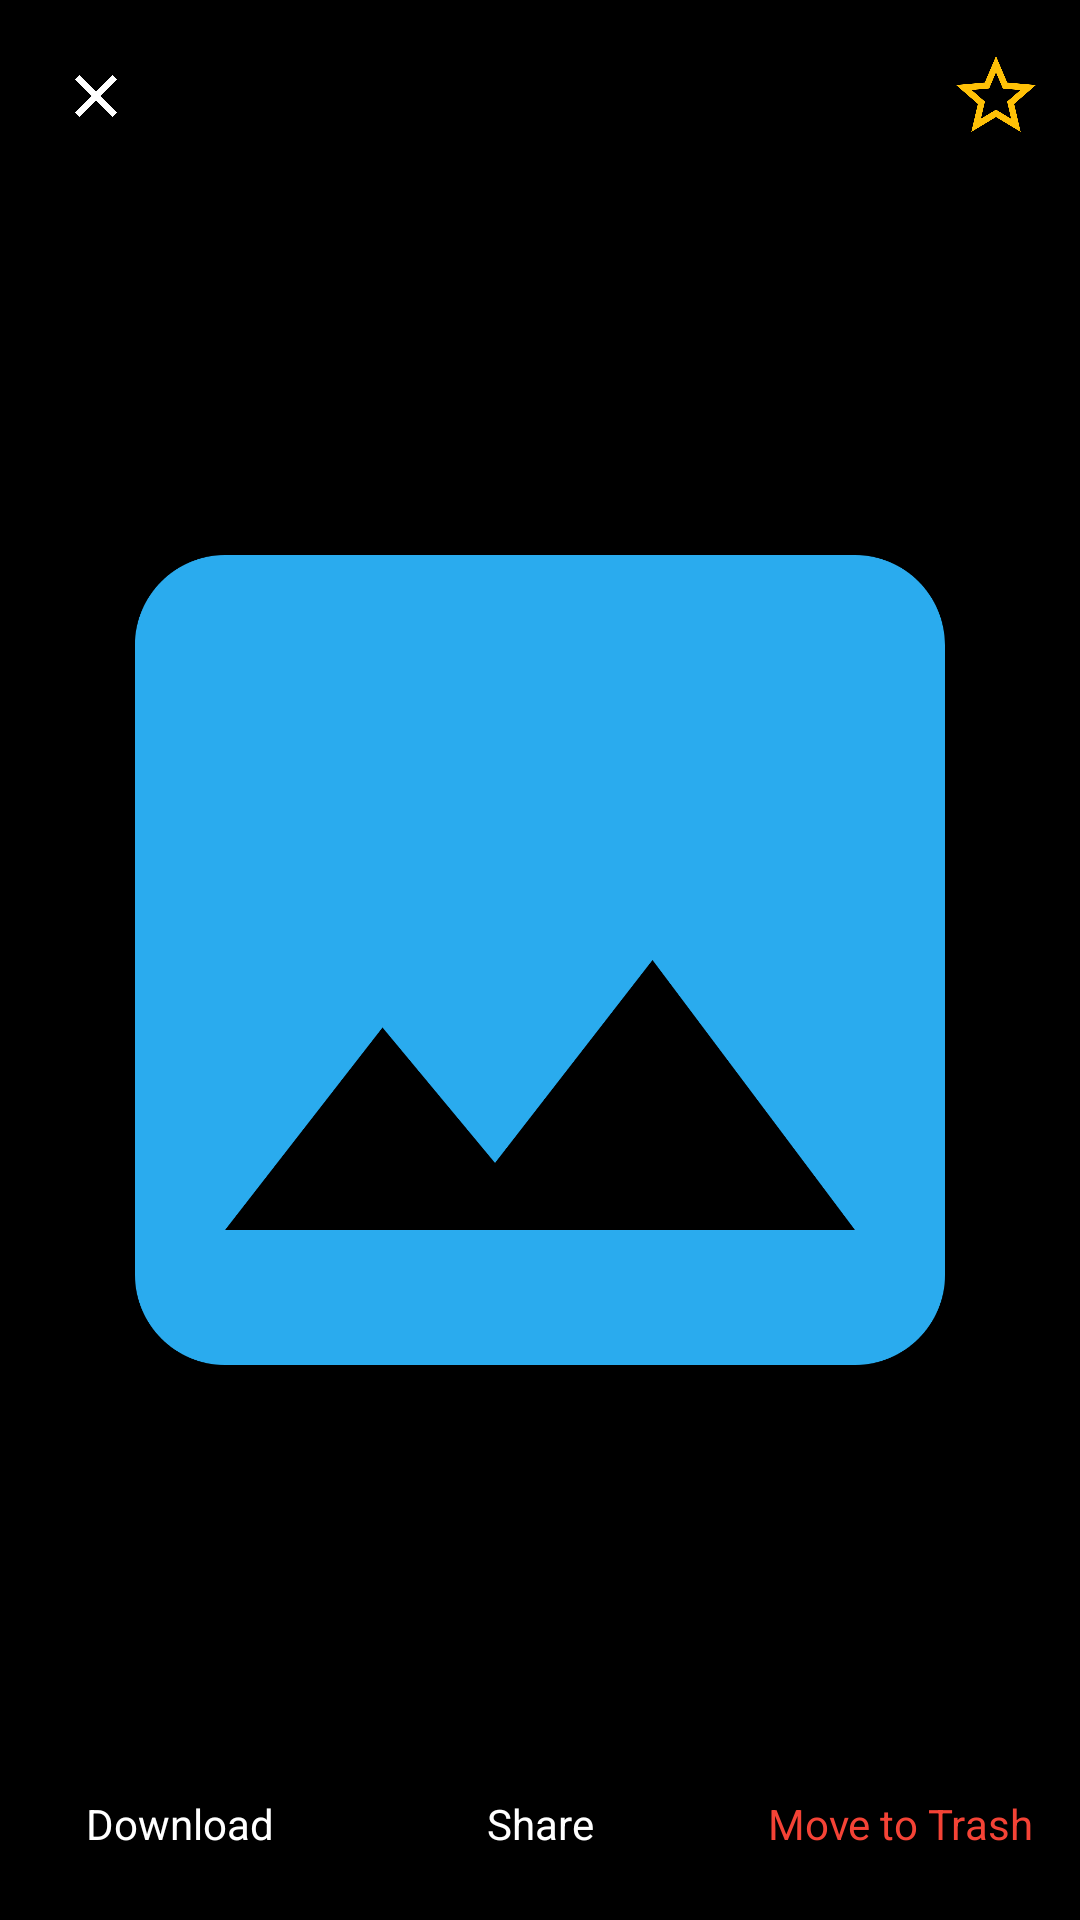

Point at icon controls on the screen. Image size 1080 x 1920, points as (x=x, y=y).
close: (x=96, y=96)
Favorite: (x=996, y=94)
